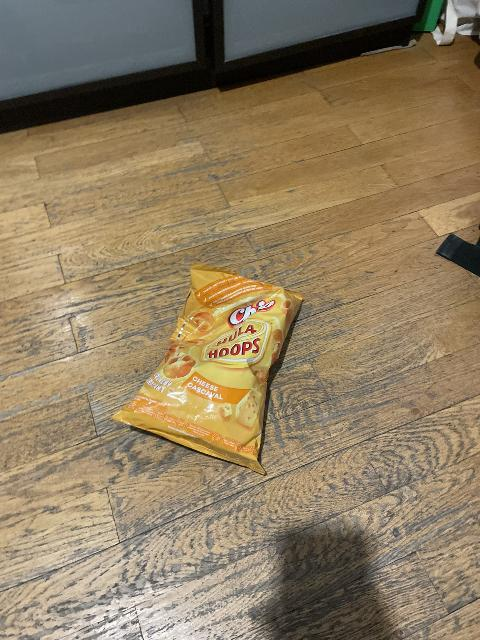Chio Hula Hoops Cheese 70g: (113, 269, 307, 475)
